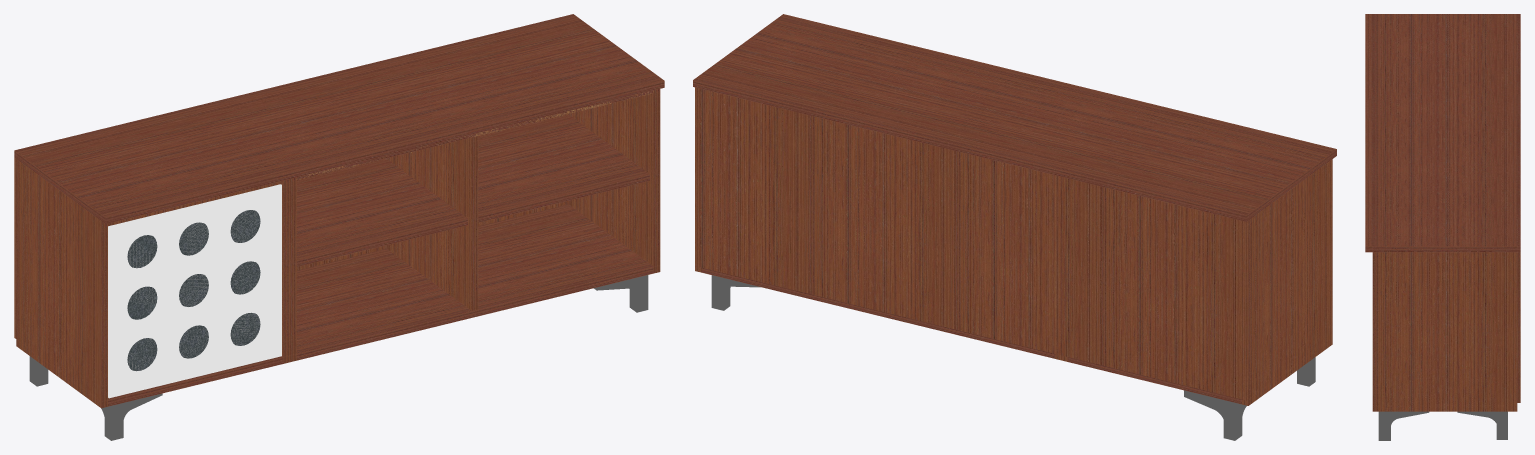
Rendered from consola-matias.glb.
3 renders of one model, left to right at view 1: azimuth 30°, elevation 25°; view 2: azimuth 150°, elevation 25°; view 3: azimuth 270°, elevation 25°, orthographic. The views are drawn at different scales.
Bounding box in the file's own units: 1.52 × 0.604 × 0.429.
Materials: 9 (6 with a texture image).
